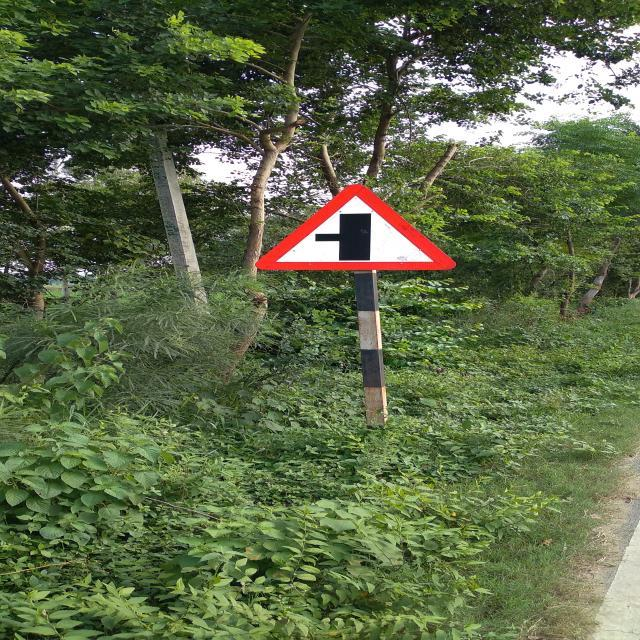side road left: (253, 184, 460, 271)
